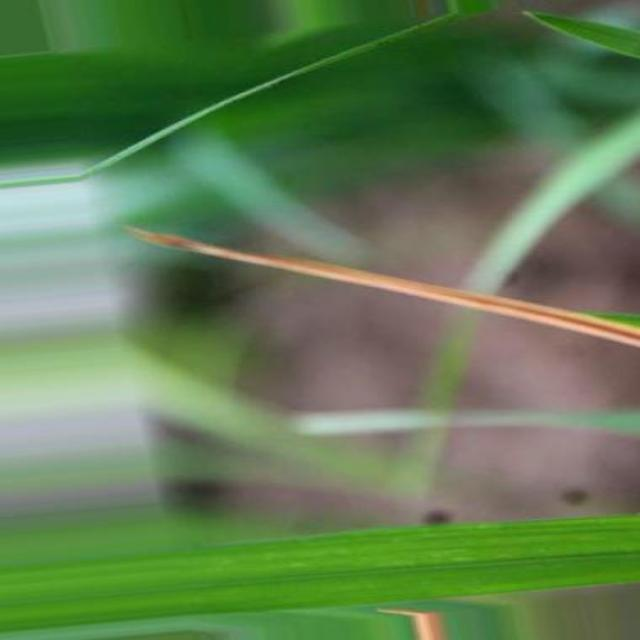Rice Tungro: (126, 228, 639, 347)
